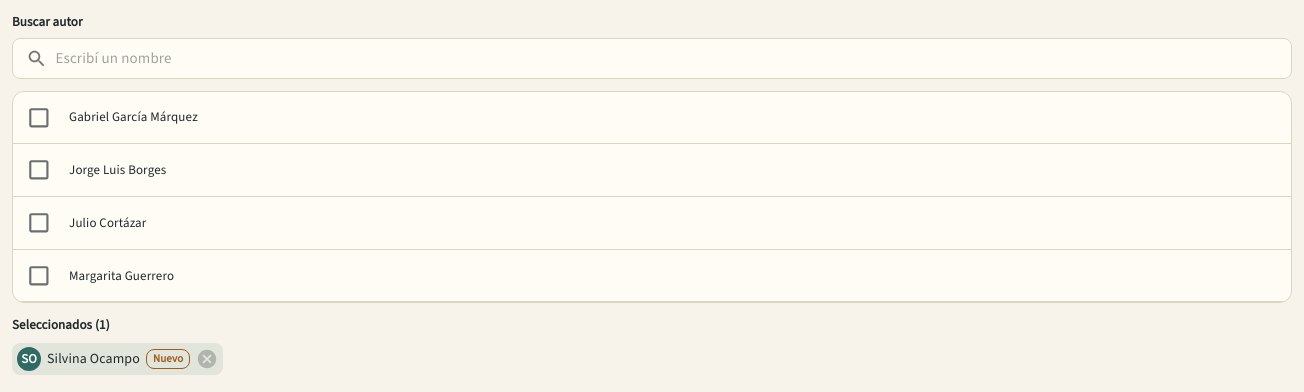
AuthorPicker › no permite agregar dos veces el mismo autor nuevo
The image size is (1304, 392).
Expected: the checkbox labelled "Jorge Luis Borges" is shown, left=26, top=157, right=52, bottom=183
Type "silvina ocampo" into the field labelled "Buscar autor" at (674, 58), box left=55, top=38, right=1292, bottom=79
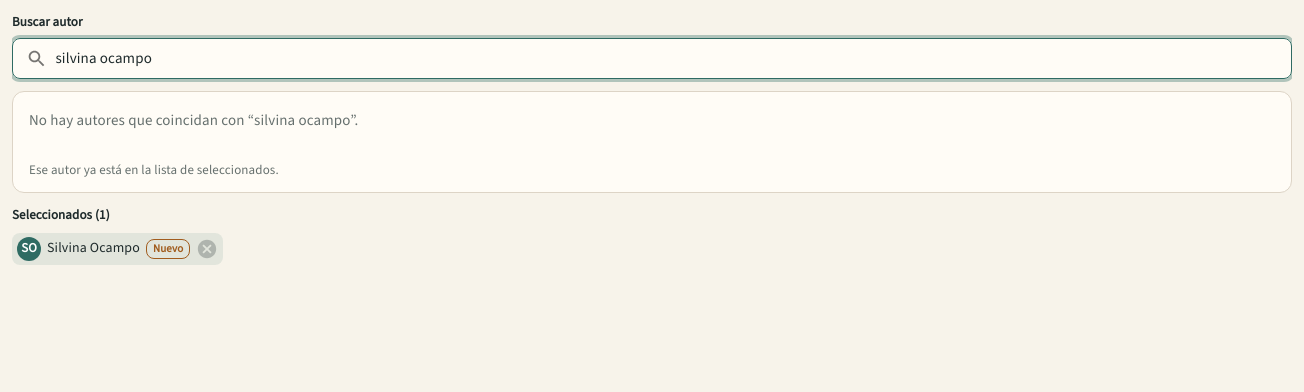
Expected: the text "Ese autor ya está en la lista de seleccionados." is shown, left=29, top=161, right=279, bottom=178
